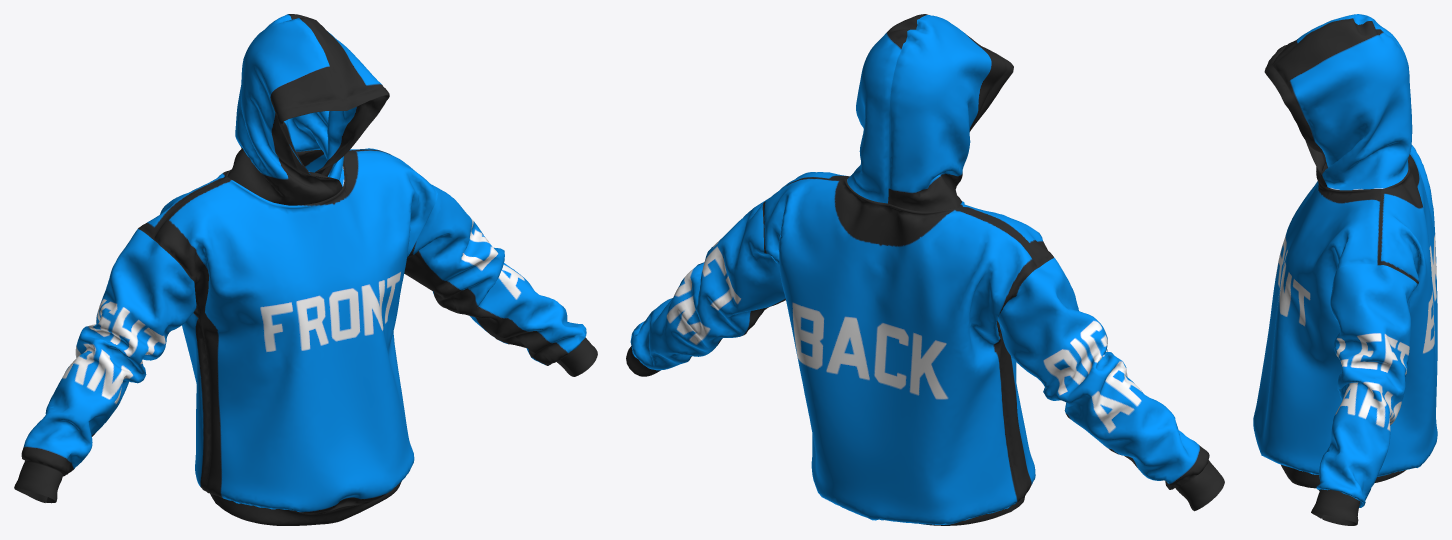
Rendered from Hoodie_Walking_Animated (1).glb.
The picture shows the model from 3 angles, left to right: view 1: azimuth 30°, elevation 25°; view 2: azimuth 150°, elevation 25°; view 3: azimuth 270°, elevation 25°; orthographic projection. The views are drawn at different scales.
Parts seen in each view (by area): view 1: cloth_parent.001; view 2: cloth_parent.001; view 3: cloth_parent.001.
Boxes of the visible parts, box(x1,y1,x2,y2) form: cloth_parent.001: box(14, 14, 597, 525); cloth_parent.001: box(626, 14, 1224, 525); cloth_parent.001: box(1253, 14, 1437, 525).
Bounding box in the file's own units: 4.42 × 3.5 × 1.32.
1 material, 1 textured.
